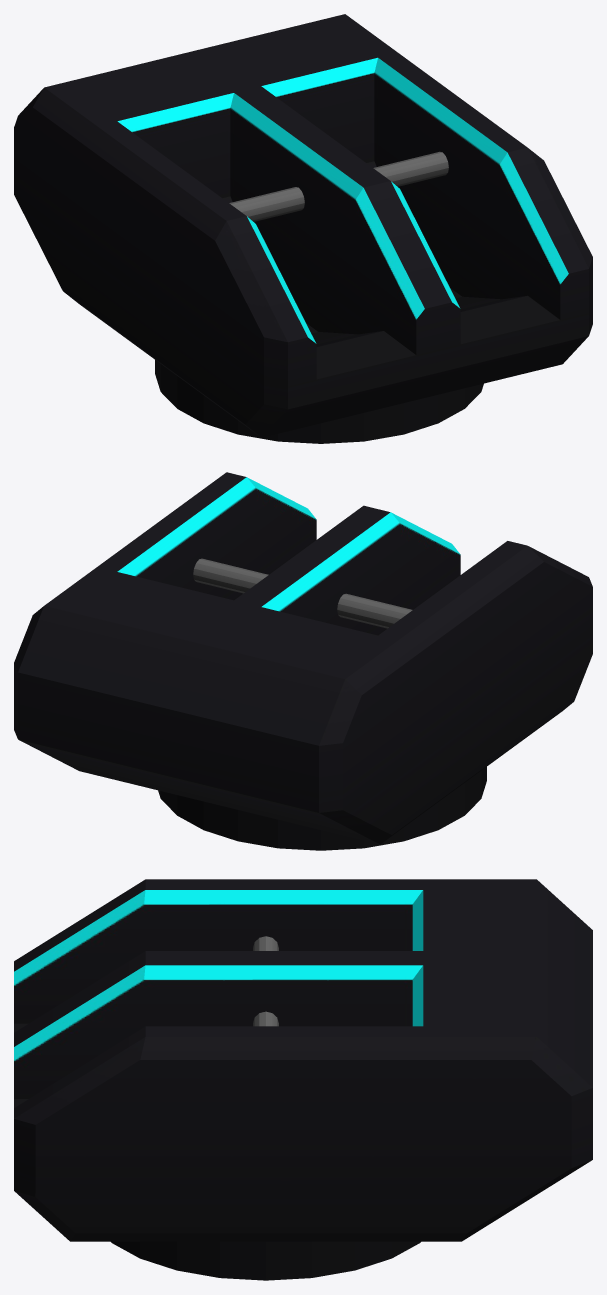
3 renders of one model, top to bottom at view 1: azimuth 30°, elevation 25°; view 2: azimuth 150°, elevation 25°; view 3: azimuth 270°, elevation 25°, orthographic. The views are drawn at different scales.
Visible parts, largest first — view 1: Base_2B_Object, Base_2B_Axle_Object; view 2: Base_2B_Object, Base_2B_Axle_Object; view 3: Base_2B_Object, Base_2B_Axle_Object.
Part boxes in pixels (bbox=[...]): Base_2B_Object: bbox=[14, 14, 592, 443]; Base_2B_Axle_Object: bbox=[229, 151, 448, 221]; Base_2B_Object: bbox=[14, 472, 592, 850]; Base_2B_Axle_Object: bbox=[193, 558, 412, 628]; Base_2B_Object: bbox=[14, 879, 592, 1280]; Base_2B_Axle_Object: bbox=[253, 936, 278, 1026].
Size of the model in its own units: 1.37 by 0.9195 by 1.95.
Materials: 1 (1 with a texture image).
